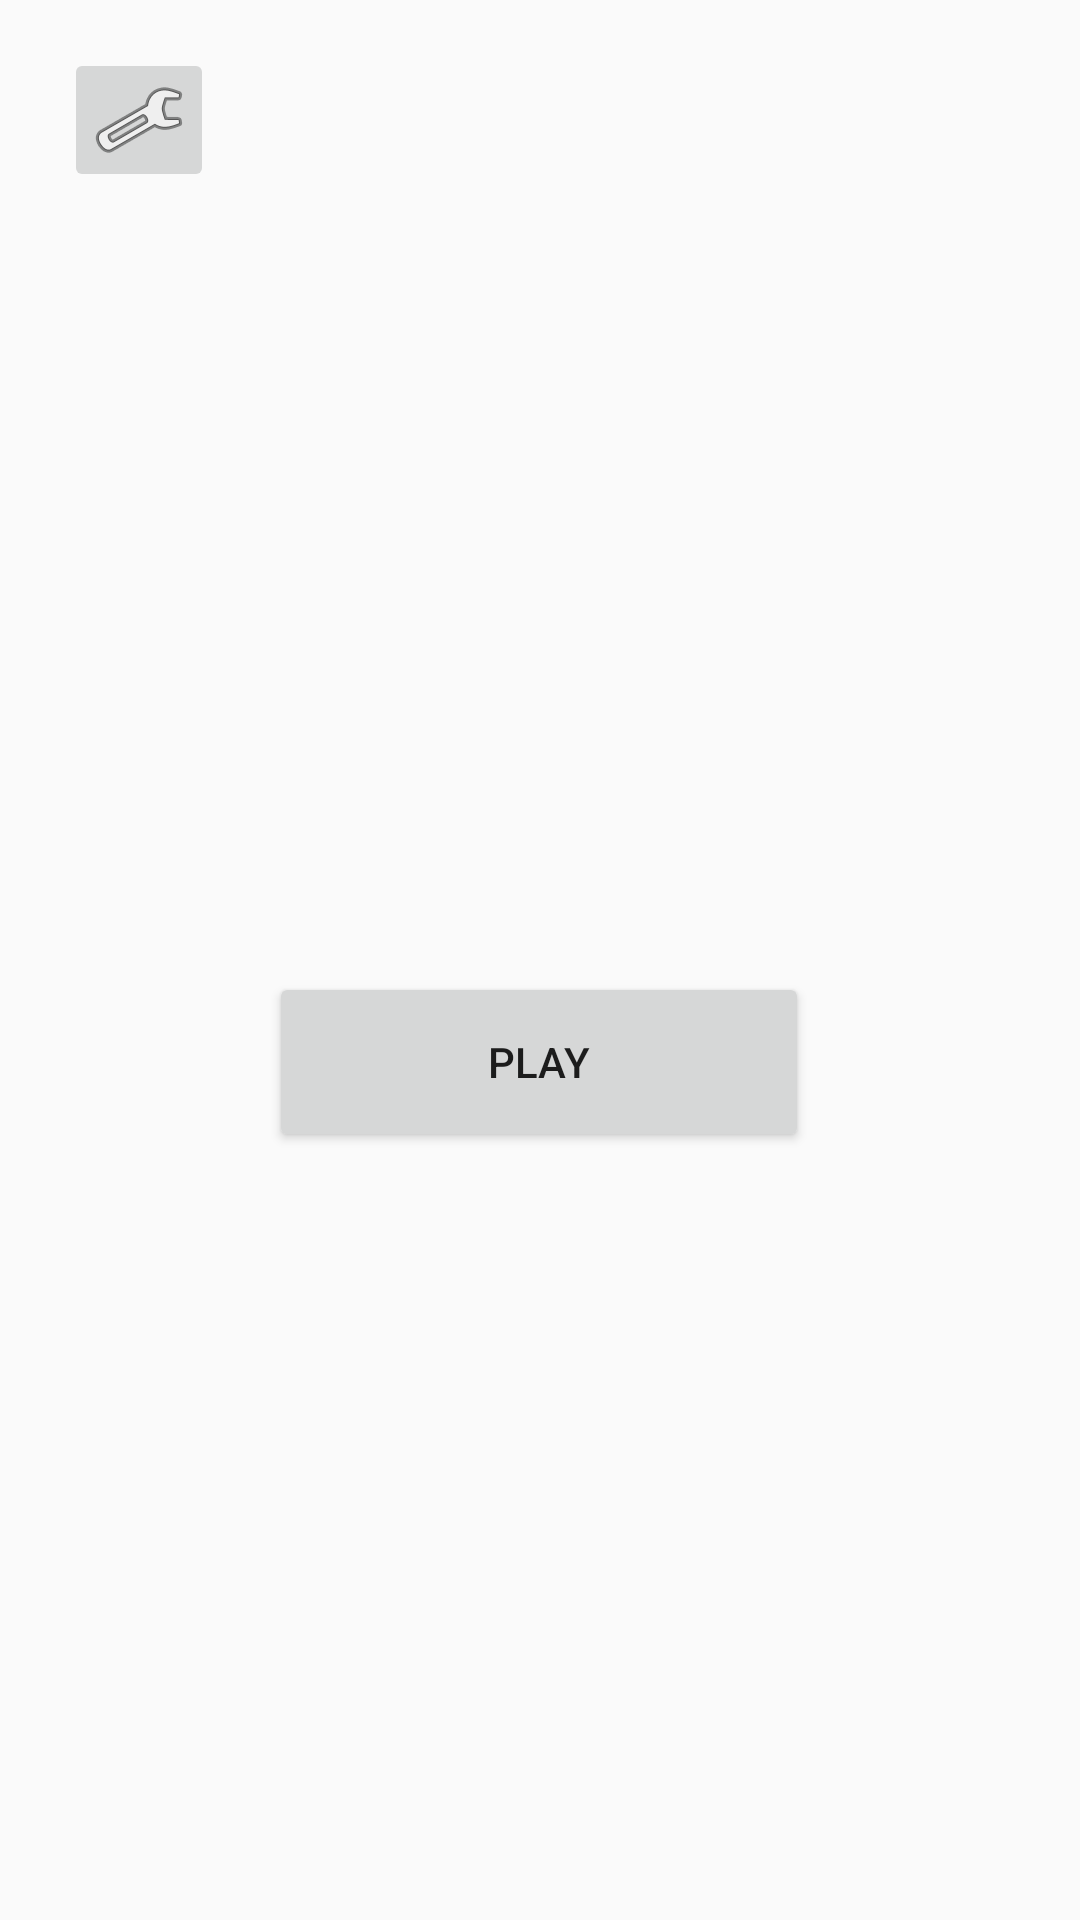

Named icons in this screenshot (1080*1920) and their centers, (x=x, y=y):
manage: (x=139, y=120)
